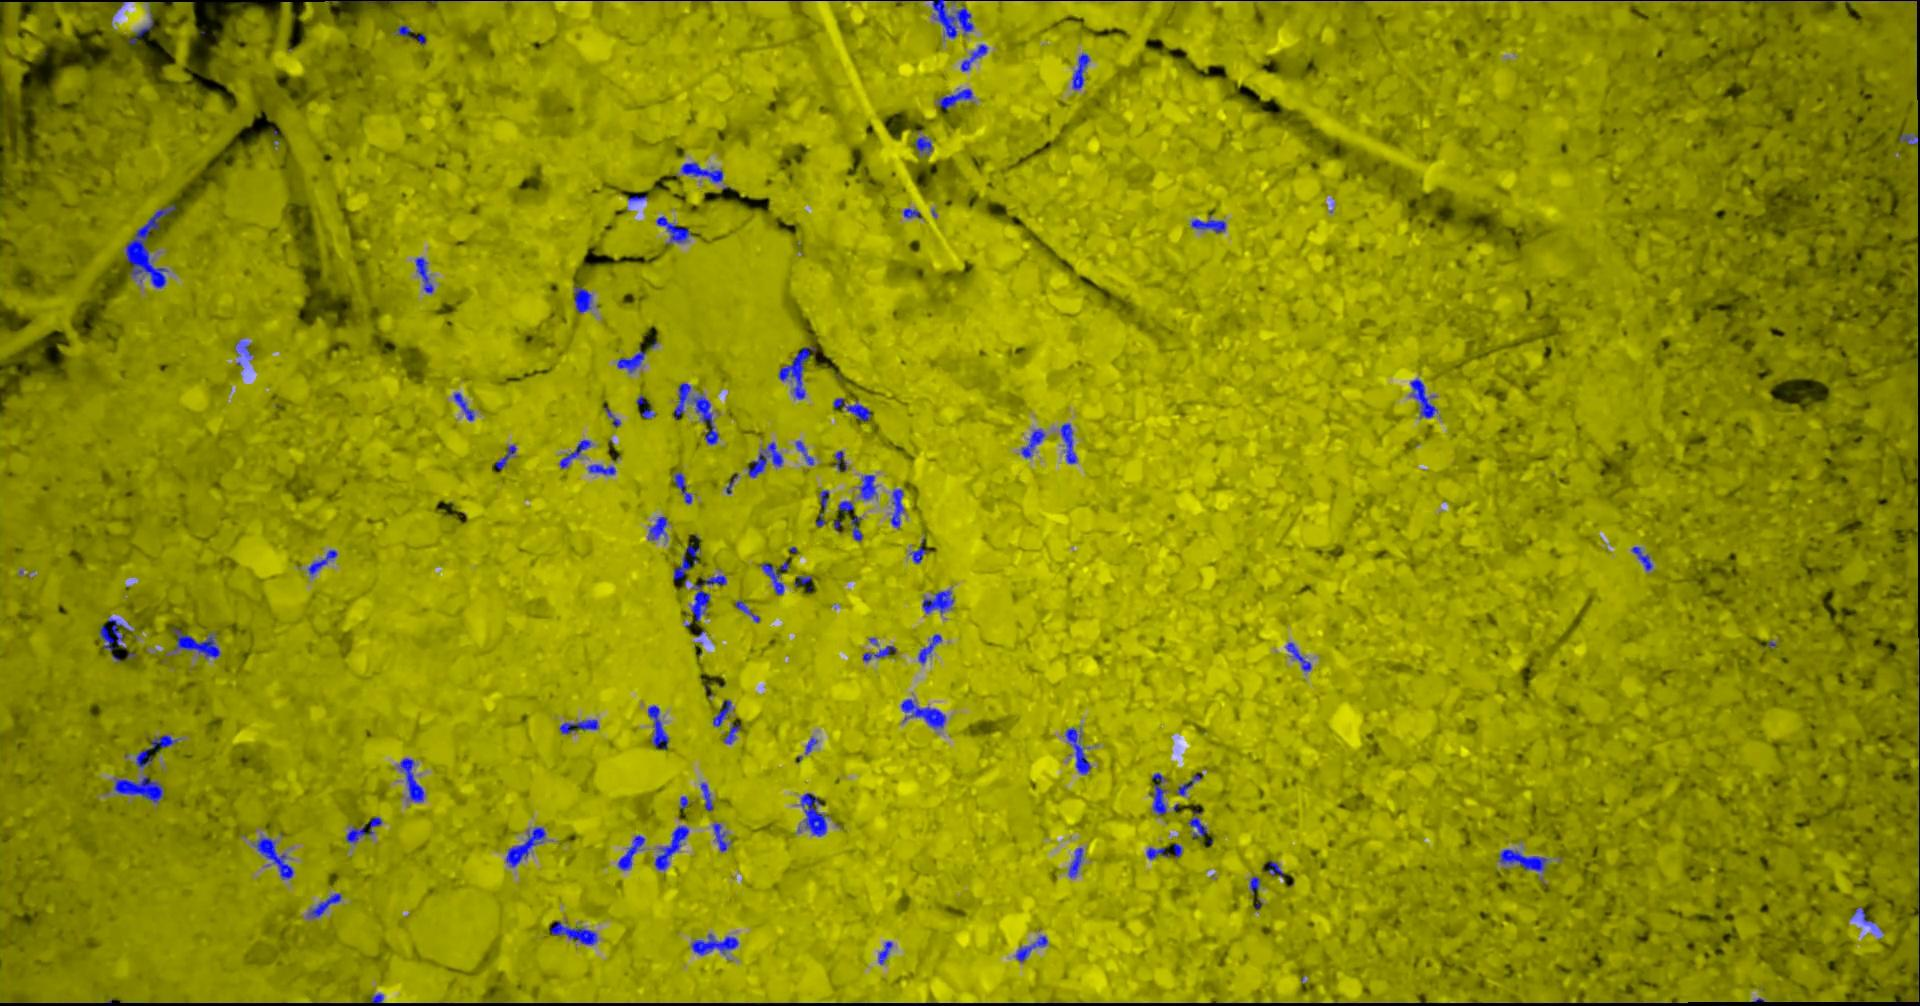ant: (673, 384, 717, 445), (778, 345, 815, 399), (251, 836, 293, 879), (691, 575, 726, 621), (505, 827, 545, 866), (931, 0, 973, 37), (654, 826, 688, 870), (135, 734, 179, 767), (171, 627, 218, 658), (113, 774, 163, 801), (99, 619, 130, 662), (900, 699, 945, 728), (747, 442, 782, 478), (1064, 727, 1090, 774), (549, 920, 596, 944), (1498, 848, 1547, 871), (800, 793, 825, 836), (673, 544, 700, 584), (399, 758, 423, 801), (655, 215, 691, 244), (1410, 379, 1436, 417), (691, 934, 738, 954), (345, 815, 381, 842), (617, 835, 644, 869), (648, 705, 668, 749), (559, 439, 590, 467), (1015, 935, 1048, 962), (833, 398, 870, 420), (127, 10, 152, 43), (307, 893, 342, 917), (681, 163, 723, 182), (759, 561, 783, 594), (616, 345, 645, 372), (307, 549, 337, 575), (1285, 641, 1310, 671), (937, 88, 971, 109), (922, 589, 952, 614), (1149, 772, 1166, 815), (960, 44, 987, 71), (1070, 53, 1090, 89), (1020, 429, 1044, 457), (918, 634, 941, 663), (415, 257, 433, 293), (1191, 213, 1225, 232), (1060, 423, 1076, 464), (734, 600, 759, 622), (396, 25, 425, 44), (559, 719, 598, 733), (453, 392, 472, 420), (712, 699, 731, 727), (1187, 809, 1206, 837), (494, 445, 516, 469), (1630, 546, 1652, 570), (1176, 774, 1200, 795), (674, 473, 691, 503), (862, 645, 895, 661), (890, 488, 903, 527), (573, 285, 590, 312), (712, 823, 729, 851), (795, 439, 813, 464), (909, 539, 927, 563), (858, 474, 875, 499), (1068, 847, 1082, 876), (648, 516, 665, 539), (1850, 907, 1874, 923), (723, 721, 740, 743), (700, 782, 712, 810), (850, 516, 862, 541), (877, 941, 891, 964), (914, 136, 931, 154), (1145, 847, 1170, 859), (588, 464, 615, 474), (834, 450, 846, 471), (364, 993, 383, 1005), (1269, 861, 1283, 876), (1898, 133, 1919, 144), (903, 207, 919, 218), (838, 500, 855, 512), (794, 575, 811, 586), (1250, 875, 1258, 894), (820, 490, 828, 511), (1740, 0, 1793, 1)
